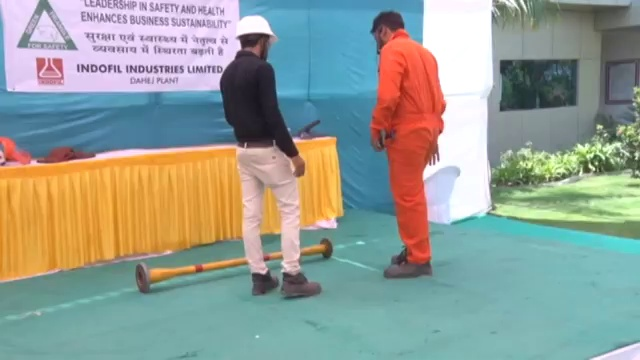helmet: (234, 14, 279, 45)
helmet_off: (368, 9, 405, 54)
helmet_on: (234, 15, 279, 61)
person: (219, 14, 322, 295), (366, 8, 447, 282)
